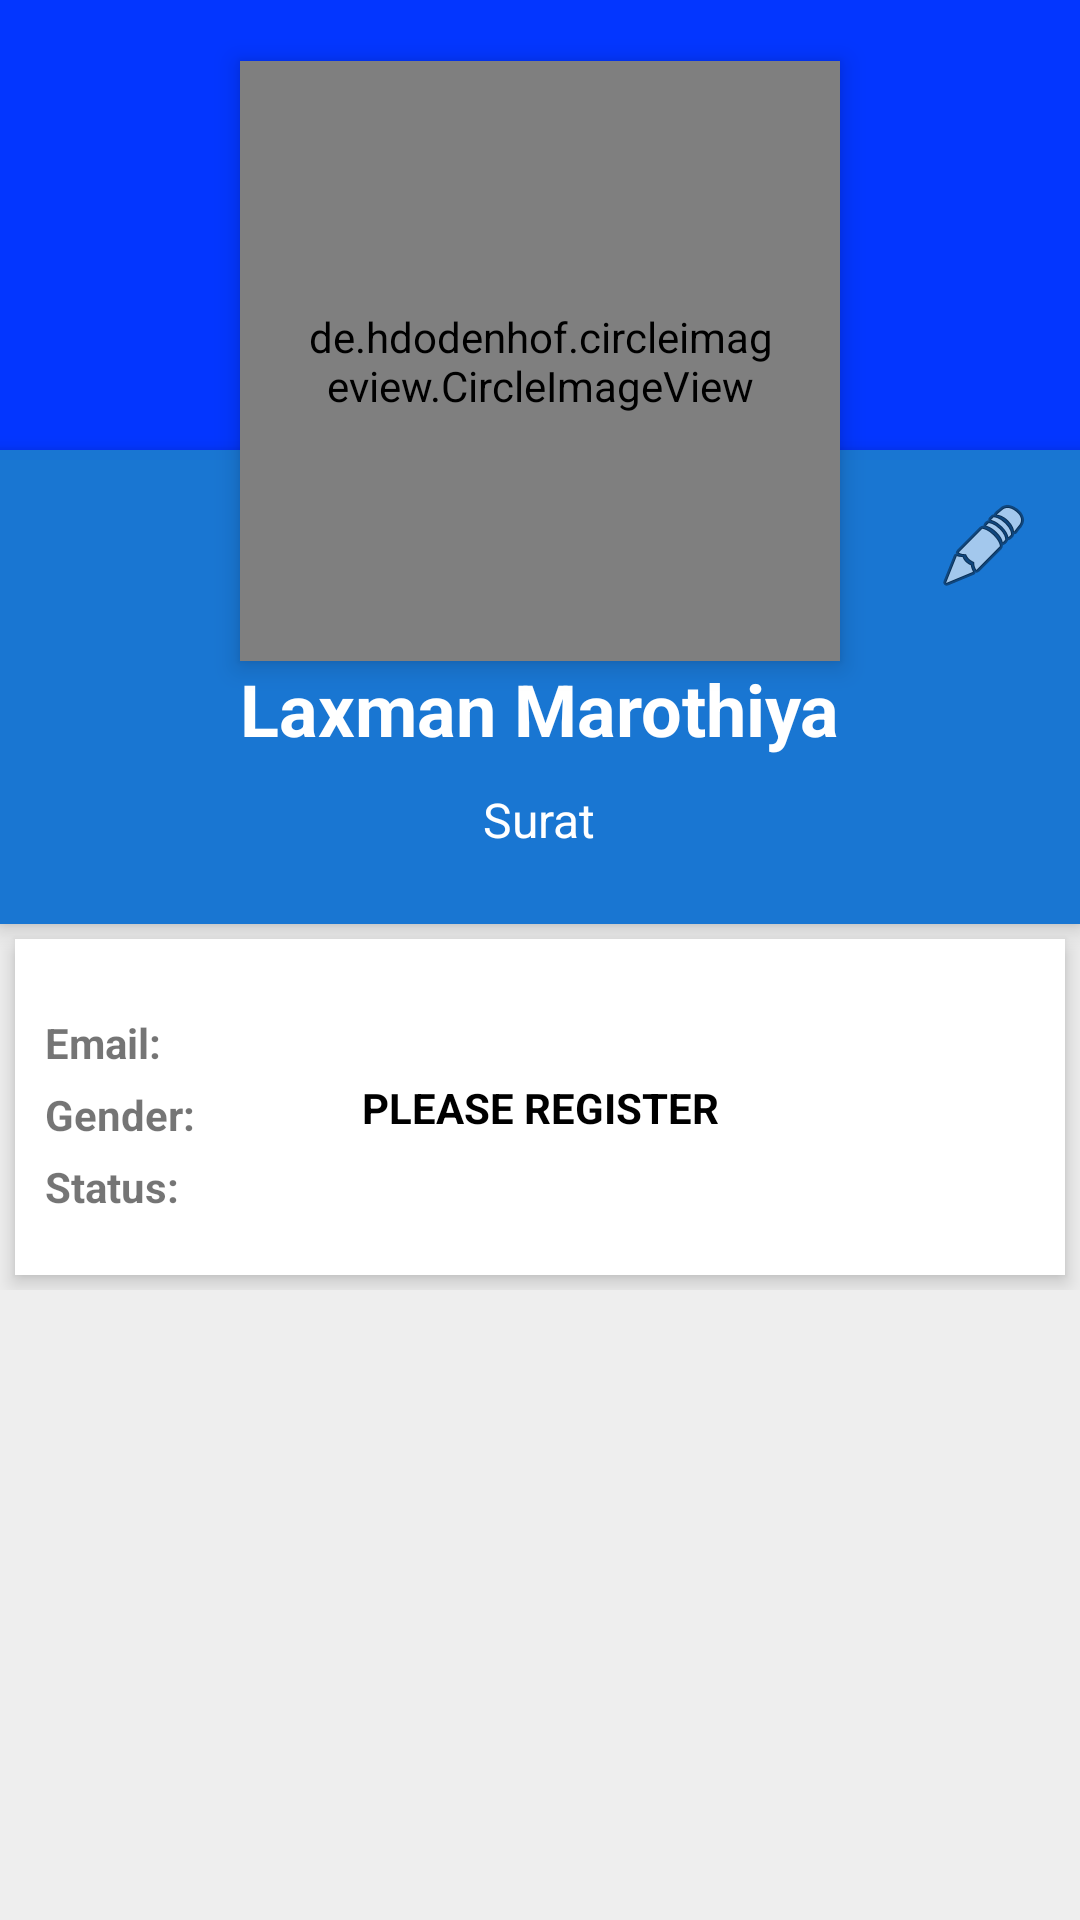

Screen size 1080w x 1920h. Icon name, then its center in pixels as [x,y]:
edit: [983,545]
